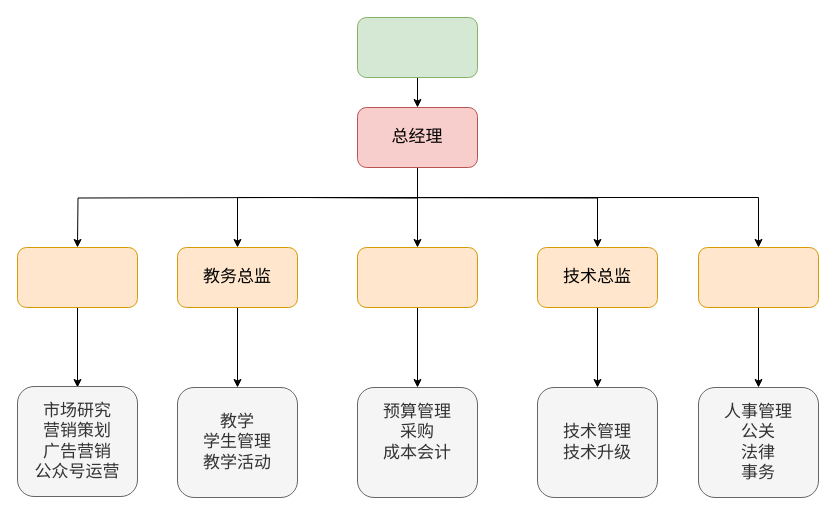
Image size: 836x515. Some labels were removed from this diagram. Here are the shapes that lost their labels. From the top down, the box of each, then its label:
(356, 16, 478, 78): 执行董事
(16, 246, 138, 308): 营销总监
(356, 246, 478, 308): 财务总监
(698, 246, 818, 308): 人力资源总监
